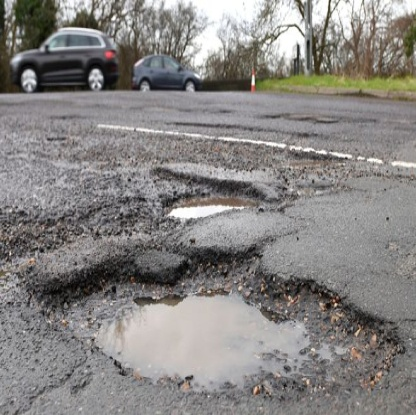pothole: (27, 248, 405, 407), (100, 140, 338, 227)
